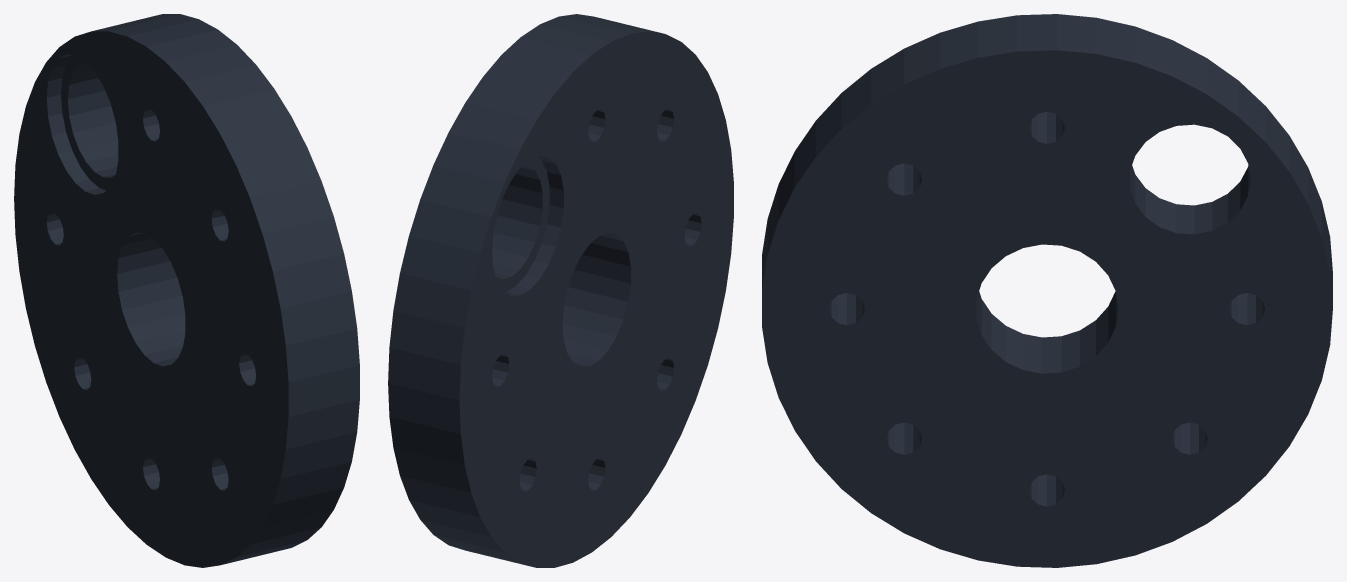
The picture shows the model from 3 angles, left to right: view 1: azimuth 30°, elevation 25°; view 2: azimuth 150°, elevation 25°; view 3: azimuth 270°, elevation 25°; orthographic projection. The views are drawn at different scales.
Visible parts, largest first — view 1: part_000; view 2: part_000; view 3: part_000.
Boxes of the visible parts, x1,y1,x2,y2 form: part_000: (14,14,359,567); part_000: (388,14,733,567); part_000: (762,14,1332,567).
Bounding box in the file's own units: 0.006 × 0.04 × 0.04.
